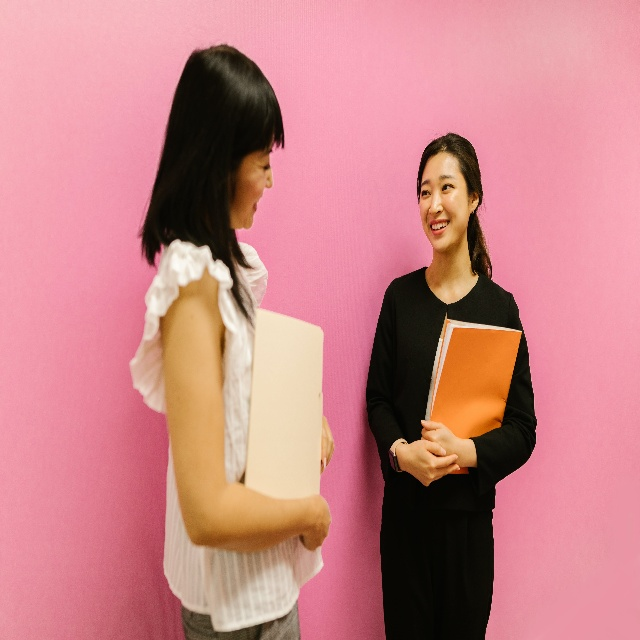Sin_guantes: (405, 439, 460, 485), (298, 492, 332, 552), (419, 418, 458, 468), (320, 414, 335, 475)
